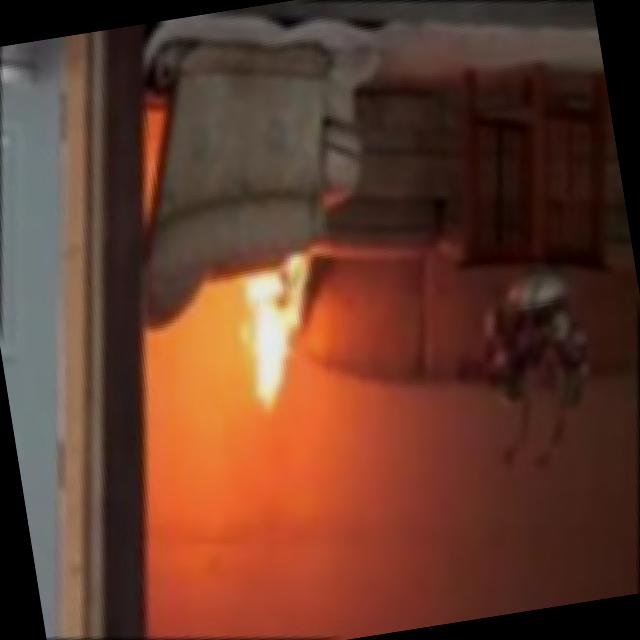fire: (190, 256, 337, 439)
